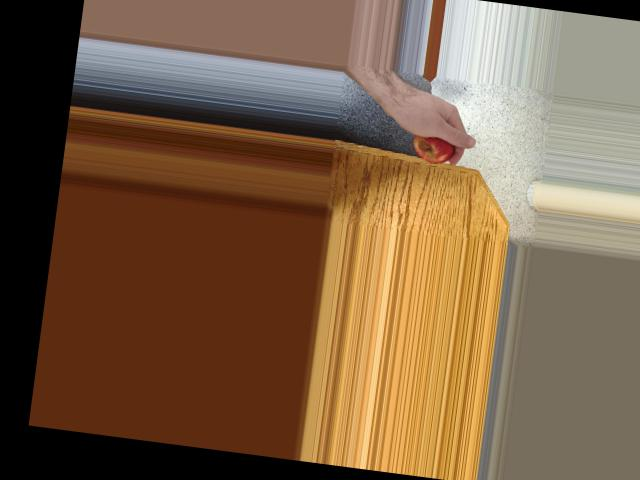apple: (410, 121, 459, 166)
